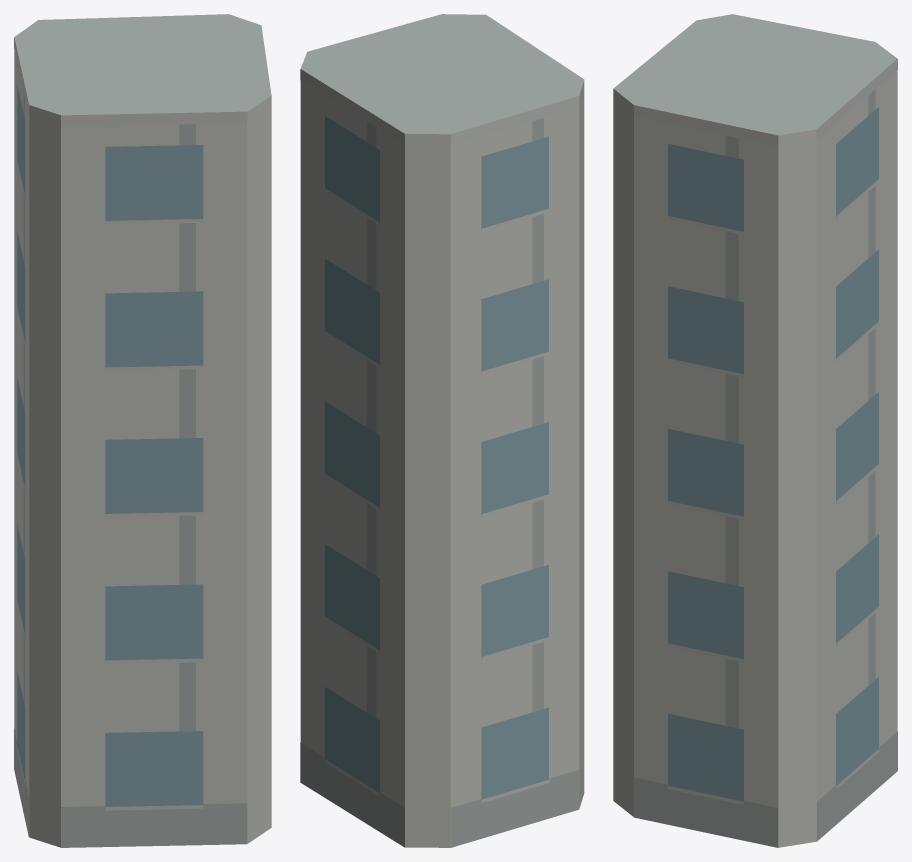
Rendered from survey-upis-32820205.glb.
3 renders of one model, left to right at view 1: azimuth 30°, elevation 25°; view 2: azimuth 150°, elevation 25°; view 3: azimuth 270°, elevation 25°, orthographic. The views are drawn at different scales.
Parts seen in each view (by area): view 1: survey-upis-32820205.tmp; view 2: survey-upis-32820205.tmp; view 3: survey-upis-32820205.tmp.
Part boxes in pixels (<box>): survey-upis-32820205.tmp: <box>14,14,271,847</box>; survey-upis-32820205.tmp: <box>300,14,584,847</box>; survey-upis-32820205.tmp: <box>613,14,897,847</box>.
Bounding box in the file's own units: 5.58 × 15.25 × 5.53.
